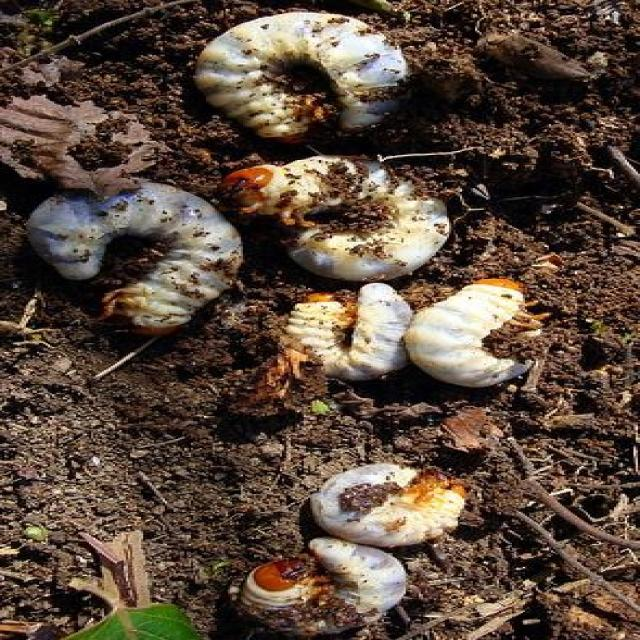grub: (24, 177, 247, 340), (190, 11, 415, 147), (227, 157, 452, 285), (405, 278, 548, 411), (232, 538, 407, 640), (277, 280, 420, 386), (301, 461, 466, 550)
